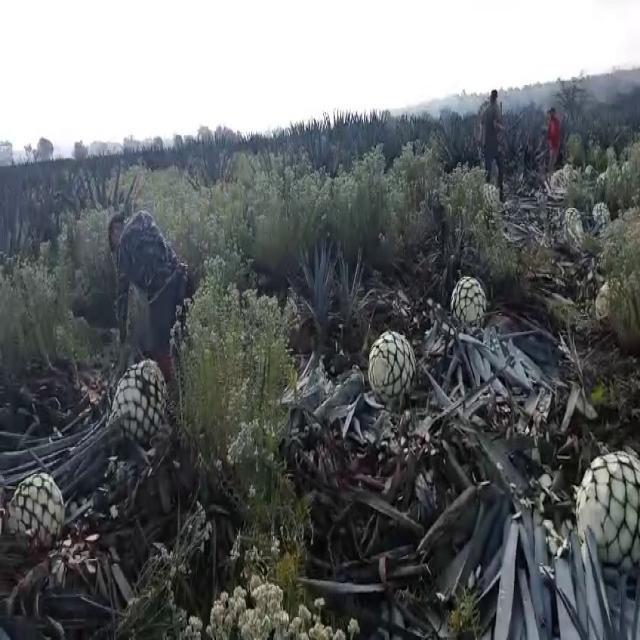agave: (574, 436, 640, 556), (102, 357, 170, 448), (3, 469, 64, 545), (364, 330, 420, 407), (447, 271, 484, 330), (562, 203, 582, 238), (484, 180, 502, 215), (591, 200, 609, 230)
